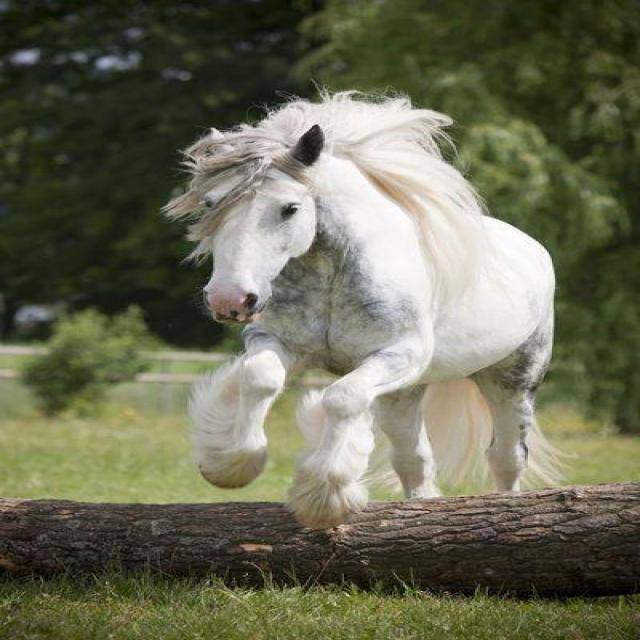horse: (158, 80, 574, 530)
